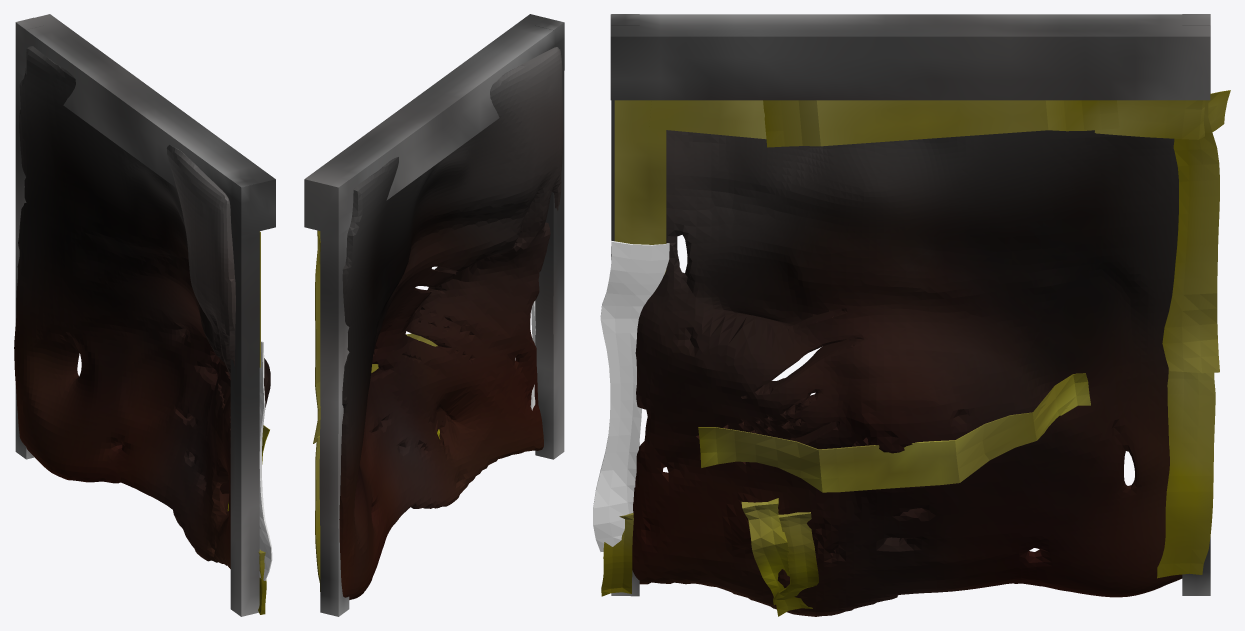
File: Porte bombée scotchée(1).fbx
The picture shows the model from 3 angles, left to right: view 1: azimuth 30°, elevation 25°; view 2: azimuth 150°, elevation 25°; view 3: azimuth 270°, elevation 25°; orthographic projection. The views are drawn at different scales.
Visible parts, largest first — view 1: Porte 5, Porte 4, Porte 3, Porte 2, Boîte 5, Boîte 6; view 2: Porte 5, Porte 4, Porte 2, Porte 3, Boîte 7, Boîte 4; view 3: Porte 5, Porte 4, Boîte 11, Boîte 8, Boîte 5, Boîte 7, Boîte 4, Boîte 14, Boîte 9, Boîte 10, Boîte 15, Boîte 13 (+3 smaller).
Part boxes in pixels (x1=…): Porte 5: x1=14, y1=46, x2=270, y2=568; Porte 4: x1=15, y1=14, x2=275, y2=235; Porte 3: x1=230, y1=175, x2=259, y2=616; Porte 2: x1=15, y1=17, x2=43, y2=459; Boîte 5: x1=259, y1=341, x2=272, y2=580; Boîte 6: x1=258, y1=550, x2=266, y2=614; Porte 5: x1=339, y1=47, x2=563, y2=599; Porte 4: x1=304, y1=14, x2=564, y2=235; Porte 2: x1=319, y1=175, x2=349, y2=616; Porte 3: x1=535, y1=18, x2=564, y2=459; Boîte 7: x1=313, y1=230, x2=320, y2=443; Boîte 4: x1=315, y1=436, x2=320, y2=591; Porte 5: x1=632, y1=130, x2=1182, y2=616; Porte 4: x1=610, y1=14, x2=1210, y2=100; Boîte 11: x1=698, y1=373, x2=1090, y2=492; Boîte 8: x1=763, y1=100, x2=1119, y2=147; Boîte 5: x1=593, y1=241, x2=669, y2=551; Boîte 7: x1=1162, y1=100, x2=1219, y2=373; Boîte 4: x1=1157, y1=368, x2=1215, y2=578; Boîte 14: x1=614, y1=100, x2=666, y2=274; Boîte 9: x1=1094, y1=90, x2=1230, y2=139; Boîte 10: x1=649, y1=100, x2=766, y2=139; Boîte 15: x1=741, y1=498, x2=812, y2=616; Boîte 13: x1=773, y1=512, x2=818, y2=605.
Size of the model in its own units: 0.9757 by 3.63 by 3.63.
